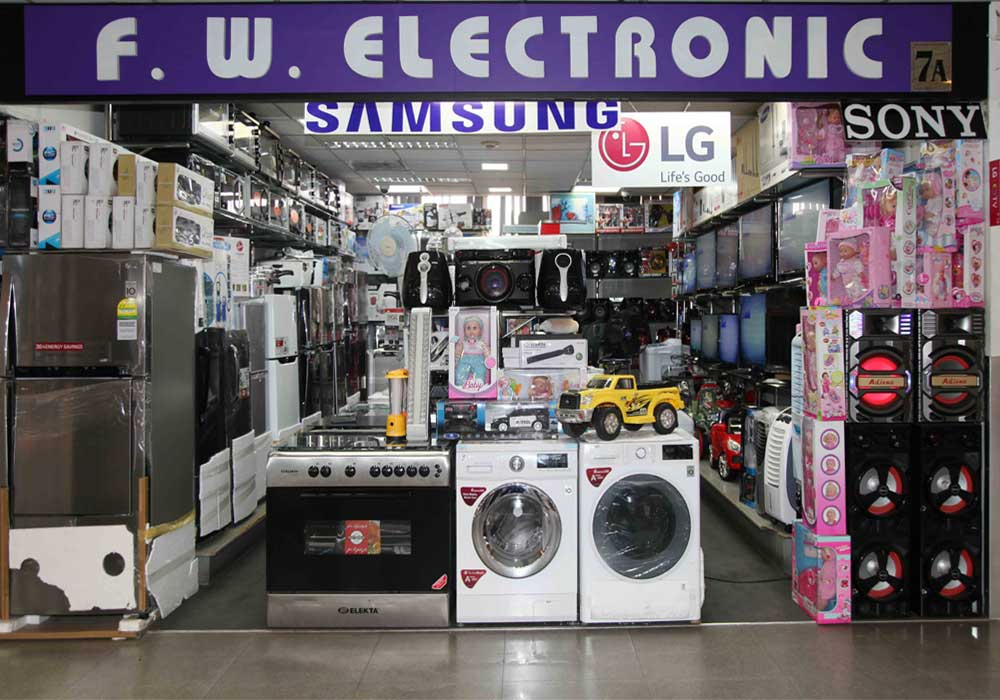Refrigerator: (1, 252, 148, 524)
